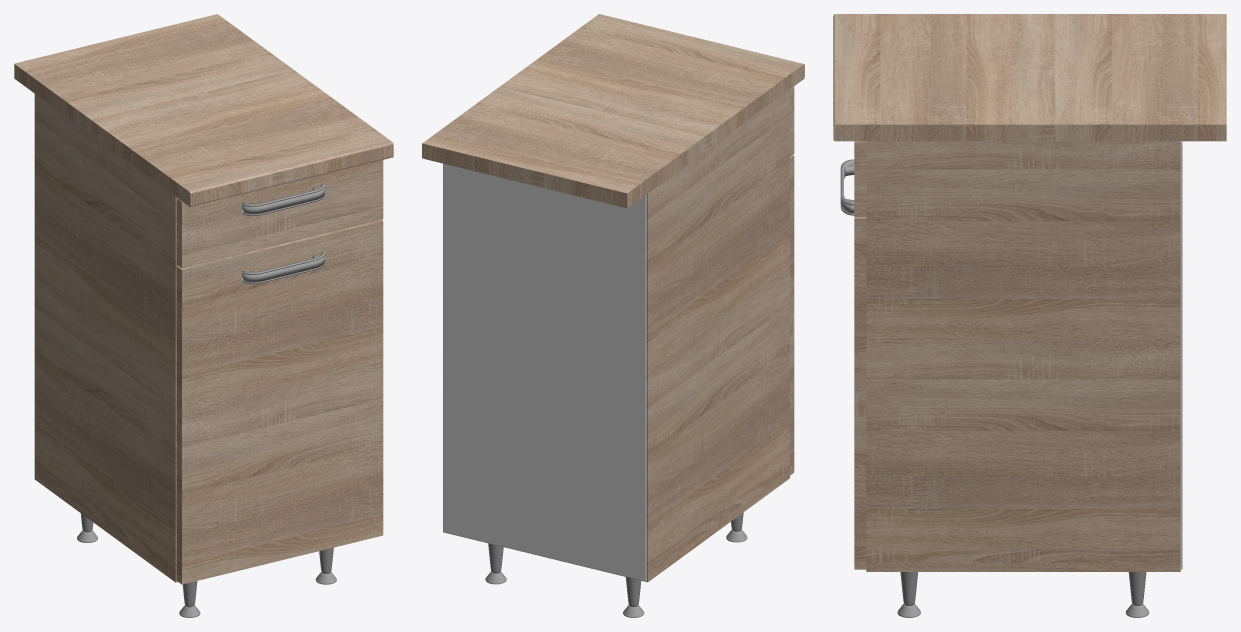
The picture shows the model from 3 angles, left to right: view 1: azimuth 30°, elevation 25°; view 2: azimuth 150°, elevation 25°; view 3: azimuth 270°, elevation 25°; orthographic projection. The views are drawn at different scales.
Parts seen in each view (by area): view 1: s_a1a1f_40_ajto_1, s_a1a1f_40_korpusz, s_a1a1f_40_munkalap, s_a1a1f_40_fiok_1, s_a1a1f_40_fogo_2, s_a1a1f_40_fogo_1, s_a1a1f_40_lab_je, s_a1a1f_40_lab_be; view 2: s_a1a1f_40_korpusz, s_a1a1f_40_munkalap, s_a1a1f_40_ajto_1, s_a1a1f_40_lab_jh, s_a1a1f_40_lab_bh; view 3: s_a1a1f_40_korpusz, s_a1a1f_40_munkalap, s_a1a1f_40_ajto_1, s_a1a1f_40_fiok_1, s_a1a1f_40_lab_jh, s_a1a1f_40_lab_je, s_a1a1f_40_fogo_2.
Boxes of the visible parts, x1=… form: s_a1a1f_40_ajto_1: x1=176, y1=219, x2=383, y2=584; s_a1a1f_40_korpusz: x1=34, y1=94, x2=177, y2=582; s_a1a1f_40_munkalap: x1=14, y1=14, x2=393, y2=206; s_a1a1f_40_fiok_1: x1=176, y1=160, x2=383, y2=268; s_a1a1f_40_fogo_2: x1=242, y1=251, x2=324, y2=284; s_a1a1f_40_fogo_1: x1=242, y1=183, x2=324, y2=215; s_a1a1f_40_lab_je: x1=315, y1=547, x2=336, y2=584; s_a1a1f_40_lab_be: x1=179, y1=581, x2=200, y2=617; s_a1a1f_40_korpusz: x1=443, y1=89, x2=789, y2=582; s_a1a1f_40_munkalap: x1=422, y1=14, x2=804, y2=208; s_a1a1f_40_ajto_1: x1=790, y1=155, x2=794, y2=475; s_a1a1f_40_lab_jh: x1=485, y1=543, x2=506, y2=584; s_a1a1f_40_lab_bh: x1=623, y1=577, x2=644, y2=617; s_a1a1f_40_korpusz: x1=866, y1=141, x2=1182, y2=571; s_a1a1f_40_munkalap: x1=833, y1=14, x2=1226, y2=141; s_a1a1f_40_ajto_1: x1=854, y1=217, x2=866, y2=569; s_a1a1f_40_fiok_1: x1=854, y1=141, x2=866, y2=216; s_a1a1f_40_lab_jh: x1=1125, y1=572, x2=1149, y2=617; s_a1a1f_40_lab_je: x1=897, y1=572, x2=920, y2=617; s_a1a1f_40_fogo_2: x1=840, y1=159, x2=854, y2=215.
Bounding box in the file's own units: 0.4 × 0.853 × 0.6.
7 materials, 4 textured.
